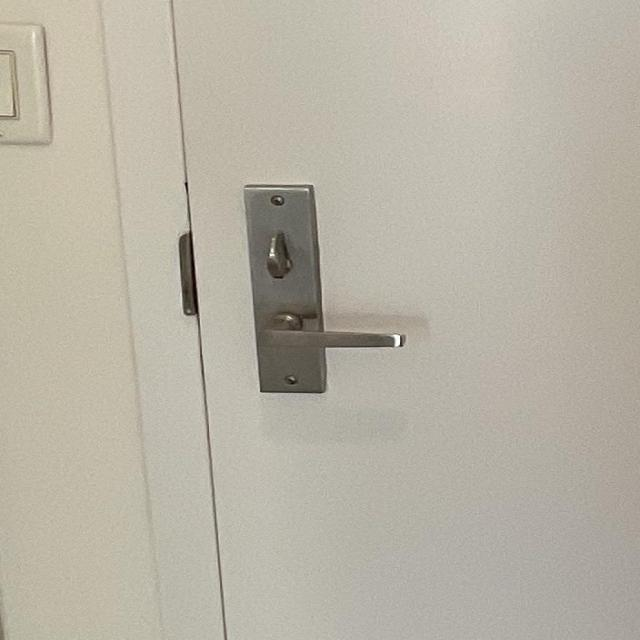door_handle: (241, 303, 417, 365)
